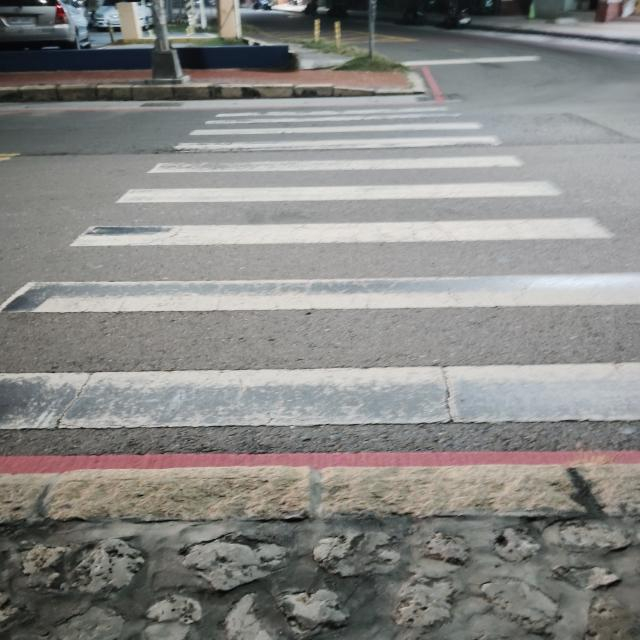zebra crossing: (4, 95, 638, 429)
